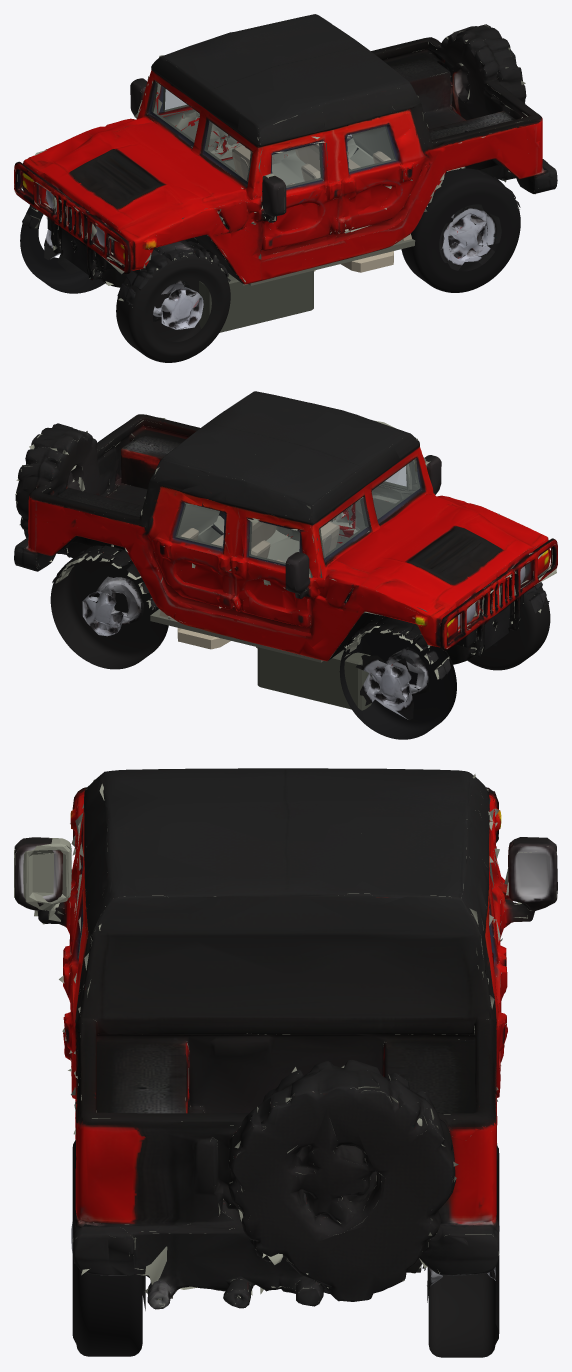
The model's file is Arnold_Hummer_lod.glb.
3 renders of one model, top to bottom at view 1: azimuth 30°, elevation 25°; view 2: azimuth 150°, elevation 25°; view 3: azimuth 270°, elevation 25°, orthographic. The views are drawn at different scales.
Parts seen in each view (by area): view 1: world, Wheel_PR, Wheel_NR, Door_Driver__Shell, Cabin__Liner__4A4C3C, Glass__Body, Cabin__Underbody__141510, Wheel_NL, Cabin__Seat__7A6A4F, Door_Driver__Glass, Cabin__Trim__141510, Cabin__Floor__24251D; view 2: world, Wheel_PL, Wheel_NL, Glass__Body, Cabin__Liner__4A4C3C, Cabin__Underbody__141510, Wheel_NR, Cabin__Seat__7A6A4F, Door_Driver__Card__4A4C3C, Cabin__Trim__141510, Cabin__Floor__24251D; view 3: world, Wheel_PL, Wheel_PR, Cabin__Liner__4A4C3C, Door_Driver__Shell, Door_Driver__Card__4A4C3C.
Boxes of the visible parts, x1=… form: world: x1=14, y1=14, x2=557, y2=304; Wheel_PR: x1=401, y1=168, x2=520, y2=292; Wheel_NR: x1=116, y1=253, x2=230, y2=362; Door_Driver__Shell: x1=247, y1=131, x2=331, y2=267; Cabin__Liner__4A4C3C: x1=14, y1=24, x2=555, y2=307; Glass__Body: x1=152, y1=83, x2=395, y2=181; Cabin__Underbody__141510: x1=199, y1=270, x2=313, y2=332; Wheel_NL: x1=20, y1=207, x2=104, y2=293; Cabin__Seat__7A6A4F: x1=232, y1=143, x2=411, y2=272; Door_Driver__Glass: x1=272, y1=143, x2=322, y2=187; Cabin__Trim__141510: x1=151, y1=82, x2=396, y2=181; Cabin__Floor__24251D: x1=248, y1=239, x2=415, y2=285; world: x1=14, y1=391, x2=557, y2=679; Wheel_PL: x1=50, y1=546, x2=168, y2=669; Wheel_NL: x1=339, y1=625, x2=456, y2=739; Glass__Body: x1=175, y1=460, x2=419, y2=564; Cabin__Liner__4A4C3C: x1=15, y1=415, x2=556, y2=679; Cabin__Underbody__141510: x1=257, y1=647, x2=372, y2=710; Wheel_NR: x1=467, y1=586, x2=550, y2=670; Cabin__Seat__7A6A4F: x1=159, y1=521, x2=285, y2=649; Door_Driver__Card__4A4C3C: x1=353, y1=460, x2=430, y2=534; Cabin__Trim__141510: x1=175, y1=458, x2=429, y2=564; Cabin__Floor__24251D: x1=150, y1=609, x2=323, y2=662; world: x1=20, y1=768, x2=557, y2=1309; Wheel_PL: x1=422, y1=1145, x2=499, y2=1357; Wheel_PR: x1=71, y1=1139, x2=145, y2=1356; Cabin__Liner__4A4C3C: x1=14, y1=774, x2=557, y2=1307; Door_Driver__Shell: x1=14, y1=808, x2=84, y2=948; Door_Driver__Card__4A4C3C: x1=23, y1=838, x2=77, y2=921.
Bounding box in the file's own units: 1 × 0.4722 × 0.5709.
12 materials, 1 textured.
